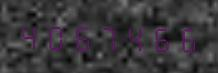four: (17, 18, 42, 51), (121, 20, 146, 53)
seven: (95, 19, 120, 53)
six: (147, 20, 172, 54), (69, 19, 94, 52), (173, 21, 198, 54)
zero: (43, 18, 68, 52)
